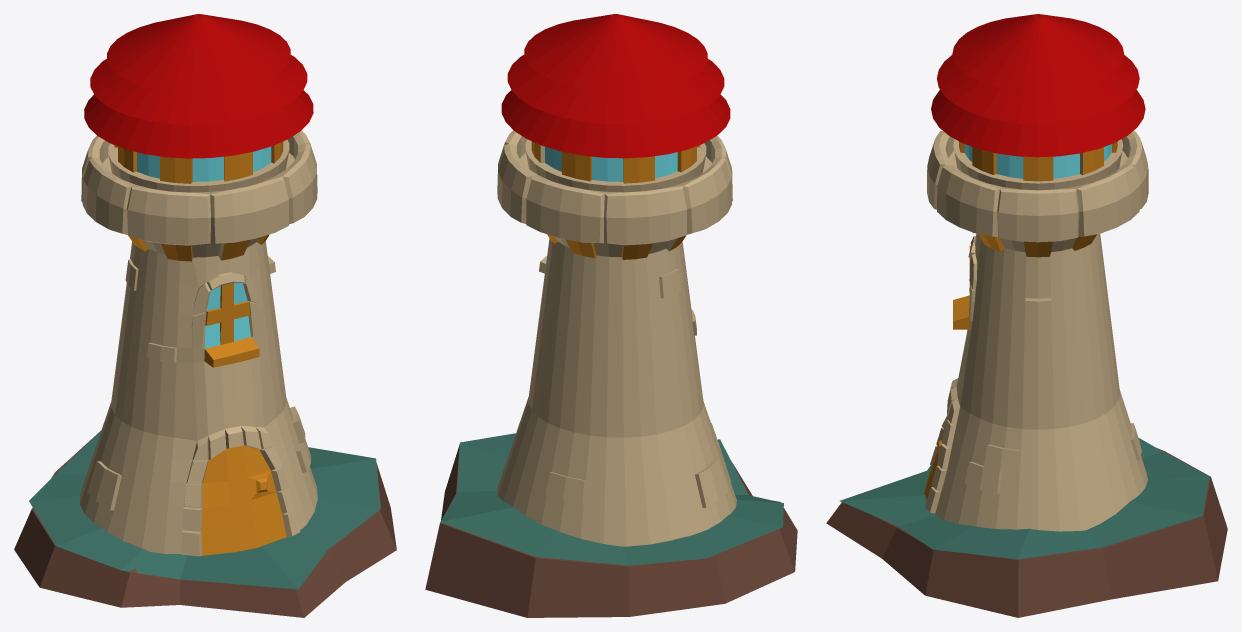
The model's file is kale_ates.fbx.
3 views of the same model, side by side, from view 1: azimuth 30°, elevation 25°; view 2: azimuth 150°, elevation 25°; view 3: azimuth 270°, elevation 25° (orthographic). The views are drawn at different scales.
Parts seen in each view (by area): view 1: Cylinder.006, cımen.005, Circle.006; view 2: Cylinder.006, Circle.006, cımen.005; view 3: Cylinder.006, Circle.006, cımen.005.
Part boxes in pixels (x1,y1,x2,y2): Cylinder.006: [80, 14, 317, 556]; cımen.005: [29, 431, 380, 589]; Circle.006: [14, 430, 396, 617]; Cylinder.006: [497, 14, 736, 546]; Circle.006: [425, 445, 797, 617]; cımen.005: [440, 433, 783, 565]; Cylinder.006: [924, 14, 1148, 531]; Circle.006: [826, 448, 1227, 617]; cımen.005: [840, 438, 1209, 559].
Bounding box in the file's own units: 488 × 705 × 496.
